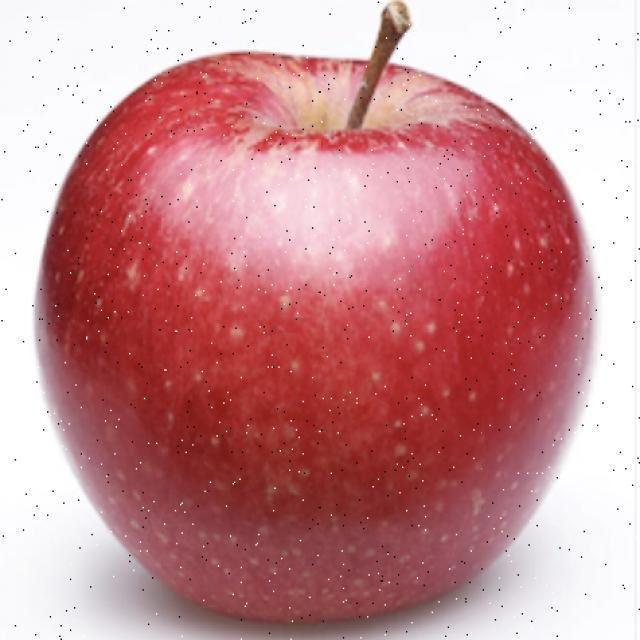Fresh Apple: (74, 50, 578, 640)
